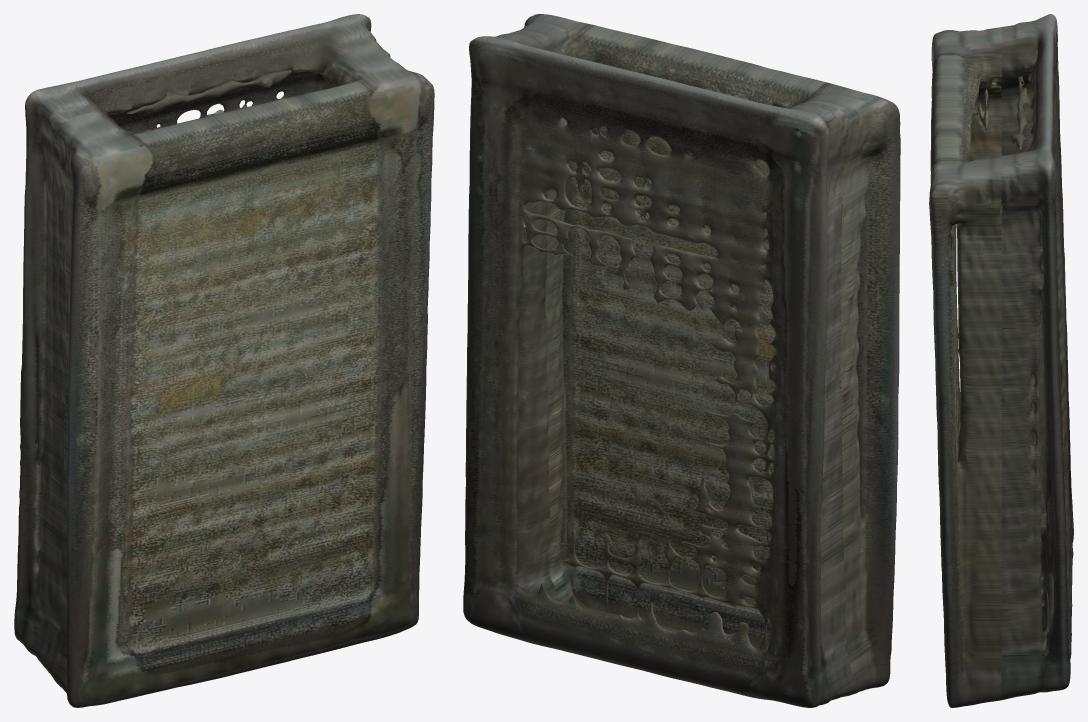
File: kfl-2188.glb
3 views of the same model, side by side, from view 1: azimuth 30°, elevation 25°; view 2: azimuth 150°, elevation 25°; view 3: azimuth 270°, elevation 25° (orthographic). The views are drawn at different scales.
Visible parts, largest first — view 1: geometry_0; view 2: geometry_0; view 3: geometry_0.
Boxes of the visible parts, <box> form: geometry_0: <box>14,14,434,707</box>; geometry_0: <box>463,14,900,707</box>; geometry_0: <box>929,14,1073,707</box>.
Size of the model in its own units: 0.6441 by 0.9973 by 0.2376.
Materials: 1 (1 with a texture image).
